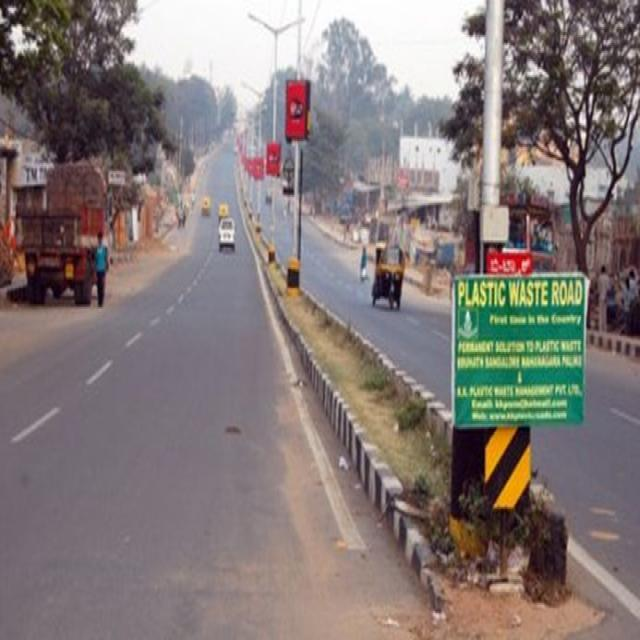Clean road: (0, 273, 438, 640)
